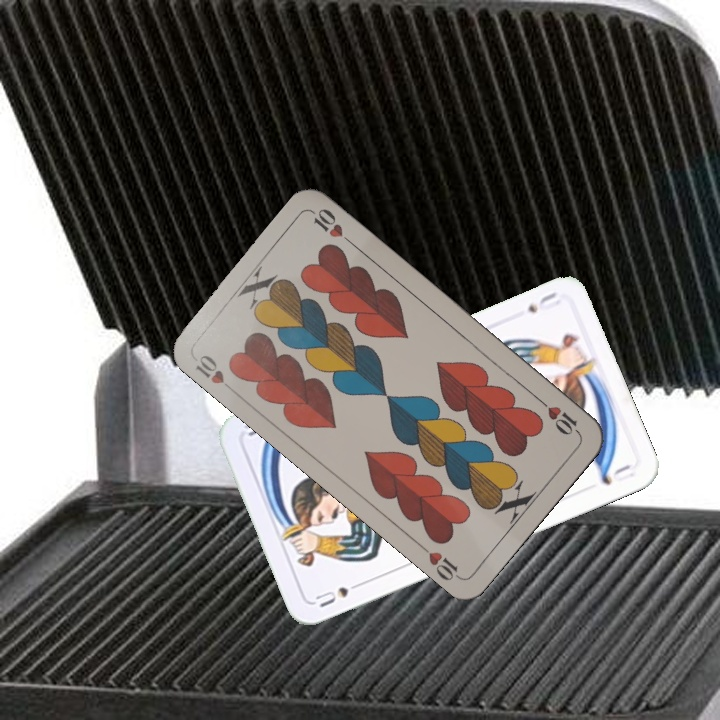H10: (533, 393, 582, 439), (191, 350, 238, 396)
SU: (311, 577, 368, 610), (523, 288, 563, 316)
